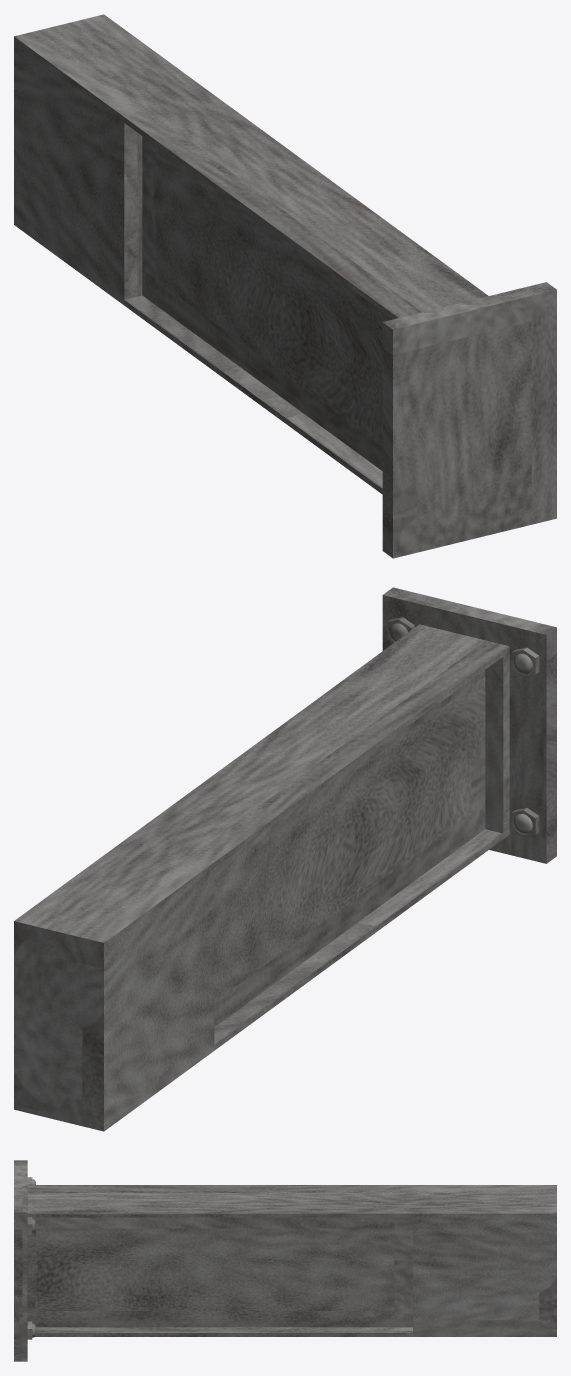
The model's file is Structural.fbx_SupportBeam.fbx.
3 views of the same model, one above another, from view 1: azimuth 30°, elevation 25°; view 2: azimuth 150°, elevation 25°; view 3: azimuth 270°, elevation 25° (orthographic). The views are drawn at different scales.
Parts seen in each view (by area): view 1: SupportBeam; view 2: SupportBeam; view 3: SupportBeam.
Part boxes in pixels (<box>): SupportBeam: <box>14,14,556,558</box>; SupportBeam: <box>14,587,556,1131</box>; SupportBeam: <box>14,1160,556,1361</box>.
Size of the model in its own units: 182 by 243 by 800.
